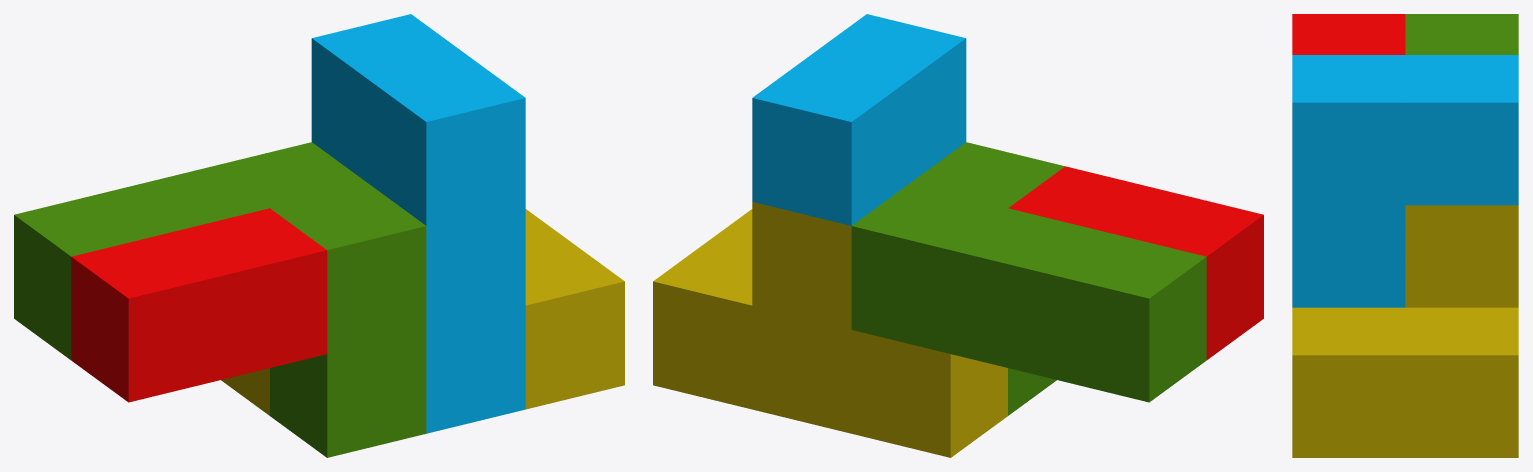
3 views of the same model, side by side, from view 1: azimuth 30°, elevation 25°; view 2: azimuth 150°, elevation 25°; view 3: azimuth 270°, elevation 25° (orthographic).
Parts seen in each view (by area): view 1: mergedBlocks(Clone); view 2: mergedBlocks(Clone); view 3: mergedBlocks(Clone).
Part boxes in pixels (<box>): mergedBlocks(Clone): <box>14,14,624,457</box>; mergedBlocks(Clone): <box>653,14,1263,457</box>; mergedBlocks(Clone): <box>1292,14,1518,457</box>.
Bounding box in the file's own units: 5 × 3 × 2.
Materials: 4 (4 with a texture image).
